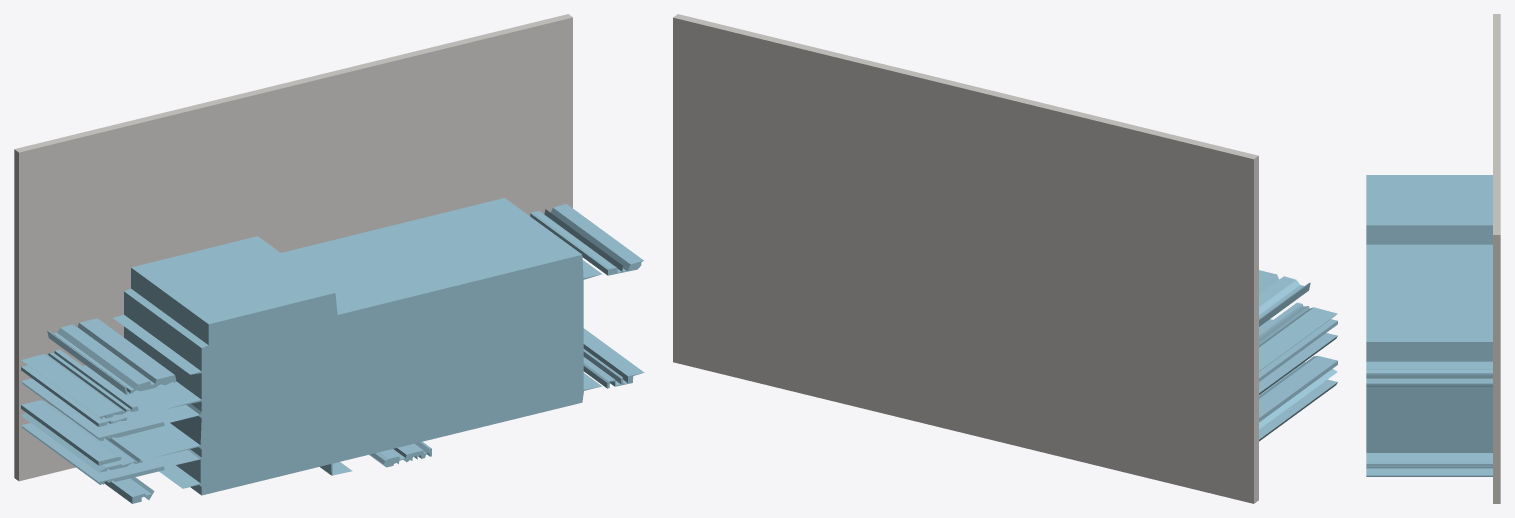
3 views of the same model, side by side, from view 1: azimuth 30°, elevation 25°; view 2: azimuth 150°, elevation 25°; view 3: azimuth 270°, elevation 25° (orthographic). The views are drawn at different scales.
Visible parts, largest first — view 1: world; view 2: world; view 3: world.
Boxes of the visible parts, left/top/right/bottom form: world: left=14, top=14, right=644, bottom=503; world: left=673, top=14, right=1337, bottom=503; world: left=1366, top=14, right=1500, bottom=503.
Bounding box in the file's own units: 10.23 × 5.8 × 2.63.
